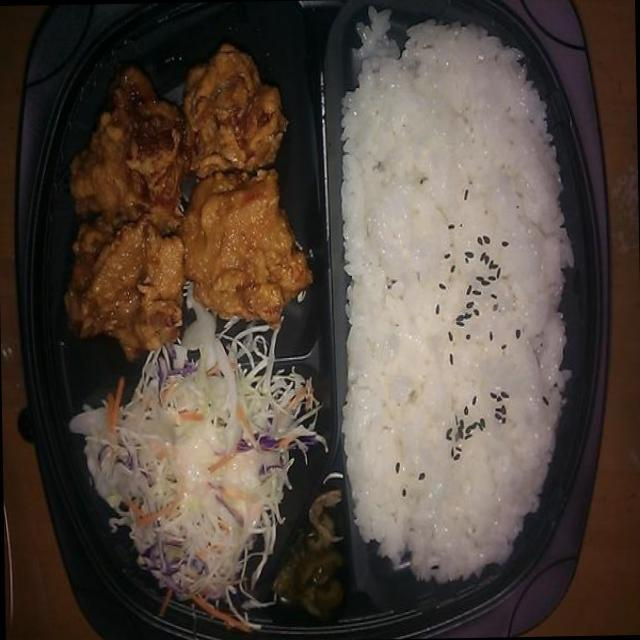Rice: (344, 39, 572, 594)
